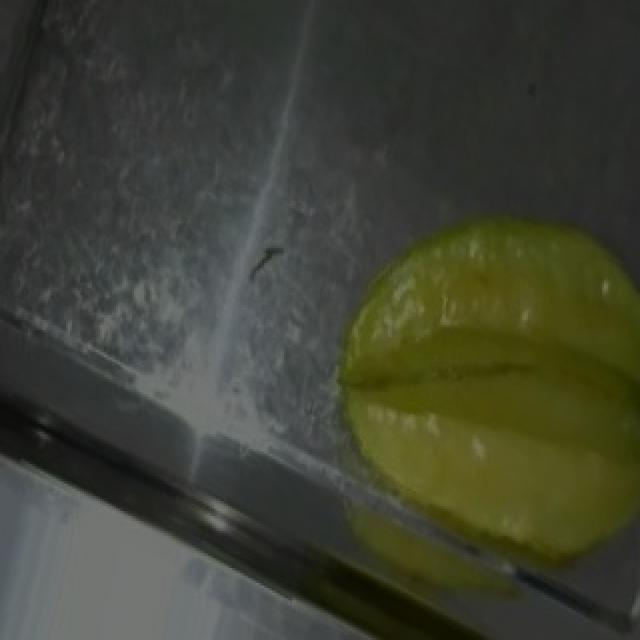fruit: (290, 122, 640, 618)
